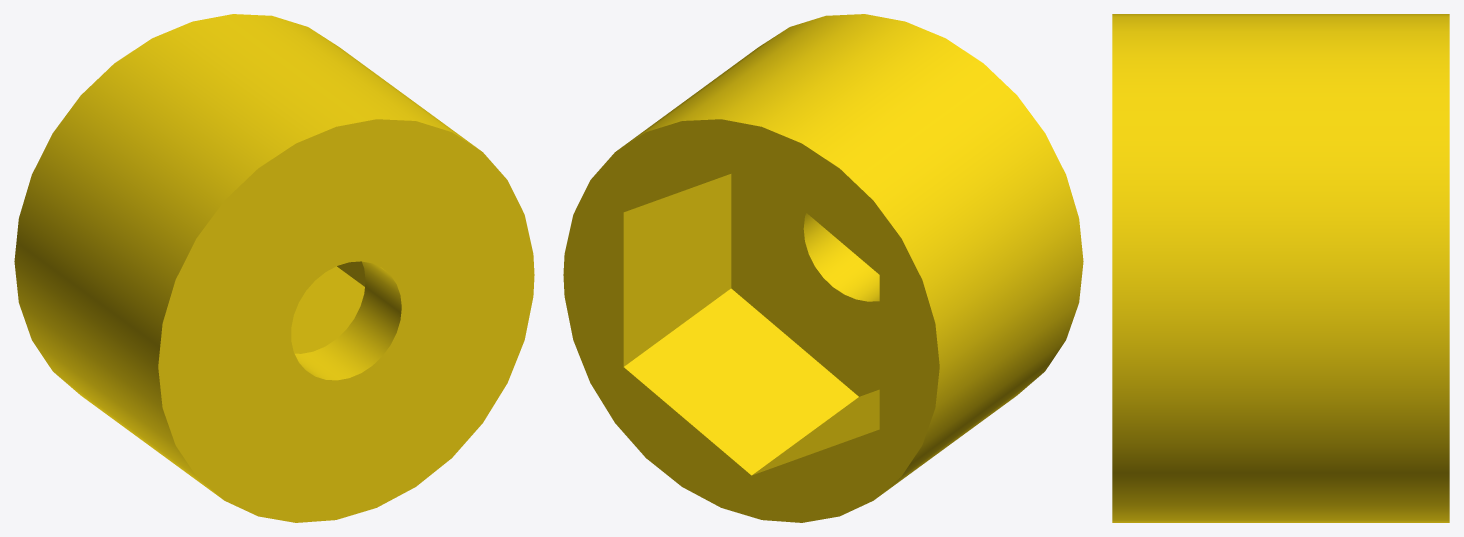
Rendered from A26_S113_cappedHexSpacer.gltf.
3 renders of one model, left to right at view 1: azimuth 30°, elevation 25°; view 2: azimuth 150°, elevation 25°; view 3: azimuth 270°, elevation 25°, orthographic. The views are drawn at different scales.
Parts seen in each view (by area): view 1: mesh35941, mesh35940, mesh35942, mesh35946; view 2: mesh35940, mesh35943, mesh35946, mesh35944, mesh35945, mesh35942, mesh35947; view 3: mesh35940.
Boxes of the visible parts, x1,y1,x2,y2 form: mesh35941: (158,119,534,522); mesh35940: (14,14,480,499); mesh35942: (295,261,401,380); mesh35946: (291,266,364,353); mesh35940: (617,14,1083,499); mesh35943: (563,119,939,522); mesh35946: (624,288,858,475); mesh35944: (731,166,879,396); mesh35945: (623,174,731,366); mesh35942: (803,213,879,301); mesh35947: (753,389,879,474); mesh35940: (1112,14,1449,522).
Size of the model in its own units: 0.0191 by 0.019 by 0.0126.
